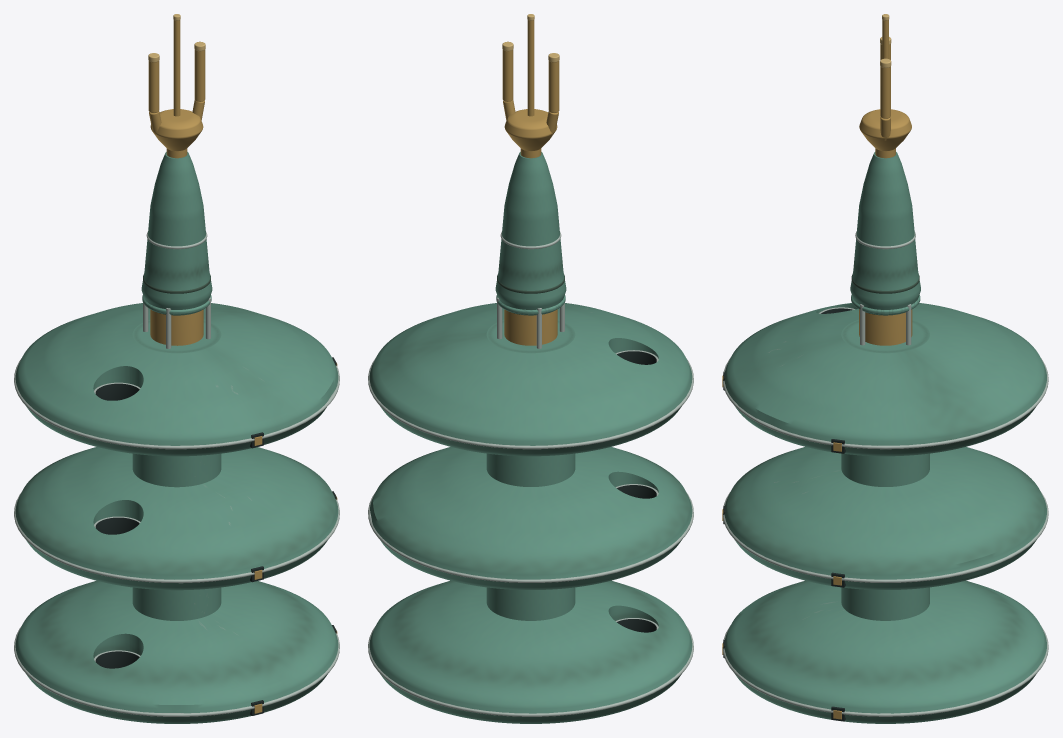
The picture shows the model from 3 angles, left to right: view 1: azimuth 30°, elevation 25°; view 2: azimuth 150°, elevation 25°; view 3: azimuth 270°, elevation 25°; orthographic projection.
Parts seen in each view (by area): view 1: RI06 broad saucer level 2, RI06 broad saucer level 1, RI06 broad saucer level 0, RI06 tapered upper mast, RI06 solid interlevel structural column, RI06 crown compact fork bowl, RI06 solid exposed brass mast neck, RI06 level 2 perimeter machined seam, RI06 level 0 perimeter machined seam, RI06 level 1 perimeter machined seam, RI06 crown central conductor, RI06 level 1 embedded well sleeve (+4 smaller); view 2: RI06 broad saucer level 2, RI06 broad saucer level 0, RI06 broad saucer level 1, RI06 tapered upper mast, RI06 solid interlevel structural column, RI06 level 1 perimeter machined seam, RI06 level 2 perimeter machined seam, RI06 crown compact fork bowl, RI06 level 0 perimeter machined seam, RI06 solid exposed brass mast neck, RI06 crown central conductor, RI06 crown outer conductor.005 (+1 smaller); view 3: RI06 broad saucer level 2, RI06 broad saucer level 0, RI06 broad saucer level 1, RI06 tapered upper mast, RI06 solid interlevel structural column, RI06 level 2 perimeter machined seam, RI06 level 1 perimeter machined seam, RI06 level 0 perimeter machined seam, RI06 crown compact fork bowl, RI06 solid exposed brass mast neck, RI06 crown outer conductor.005.
Part boxes in pixels (x1,y1,x2,y2): RI06 broad saucer level 2: [15, 303, 338, 456]; RI06 broad saucer level 1: [15, 447, 338, 590]; RI06 broad saucer level 0: [15, 580, 338, 723]; RI06 tapered upper mast: [141, 152, 212, 315]; RI06 solid interlevel structural column: [132, 453, 221, 620]; RI06 crown compact fork bowl: [150, 109, 203, 151]; RI06 solid exposed brass mast neck: [150, 309, 203, 345]; RI06 level 2 perimeter machined seam: [14, 358, 339, 449]; RI06 level 0 perimeter machined seam: [14, 626, 339, 716]; RI06 level 1 perimeter machined seam: [14, 492, 339, 583]; RI06 crown central conductor: [173, 20, 180, 116]; RI06 level 1 embedded well sleeve: [94, 516, 140, 534]; RI06 broad saucer level 2: [369, 303, 692, 456]; RI06 broad saucer level 0: [369, 580, 692, 723]; RI06 broad saucer level 1: [370, 447, 692, 589]; RI06 tapered upper mast: [495, 152, 566, 315]; RI06 solid interlevel structural column: [486, 453, 575, 620]; RI06 level 1 perimeter machined seam: [368, 492, 693, 582]; RI06 level 2 perimeter machined seam: [368, 358, 693, 449]; RI06 crown compact fork bowl: [504, 109, 557, 151]; RI06 level 0 perimeter machined seam: [368, 626, 693, 716]; RI06 solid exposed brass mast neck: [504, 309, 557, 345]; RI06 crown central conductor: [527, 20, 534, 116]; RI06 crown outer conductor.005: [502, 50, 513, 101]; RI06 broad saucer level 2: [724, 303, 1046, 456]; RI06 broad saucer level 0: [724, 580, 1046, 723]; RI06 broad saucer level 1: [724, 447, 1046, 589]; RI06 tapered upper mast: [850, 152, 920, 315]; RI06 solid interlevel structural column: [841, 453, 929, 620]; RI06 level 2 perimeter machined seam: [723, 358, 1048, 449]; RI06 level 1 perimeter machined seam: [723, 492, 1048, 582]; RI06 level 0 perimeter machined seam: [723, 626, 1048, 716]; RI06 crown compact fork bowl: [859, 109, 911, 151]; RI06 solid exposed brass mast neck: [859, 309, 912, 345]; RI06 crown outer conductor.005: [880, 66, 890, 118].
Size of the model in its own units: 2.21 by 4.96 by 2.21.
Materials: 7 (2 with a texture image).
